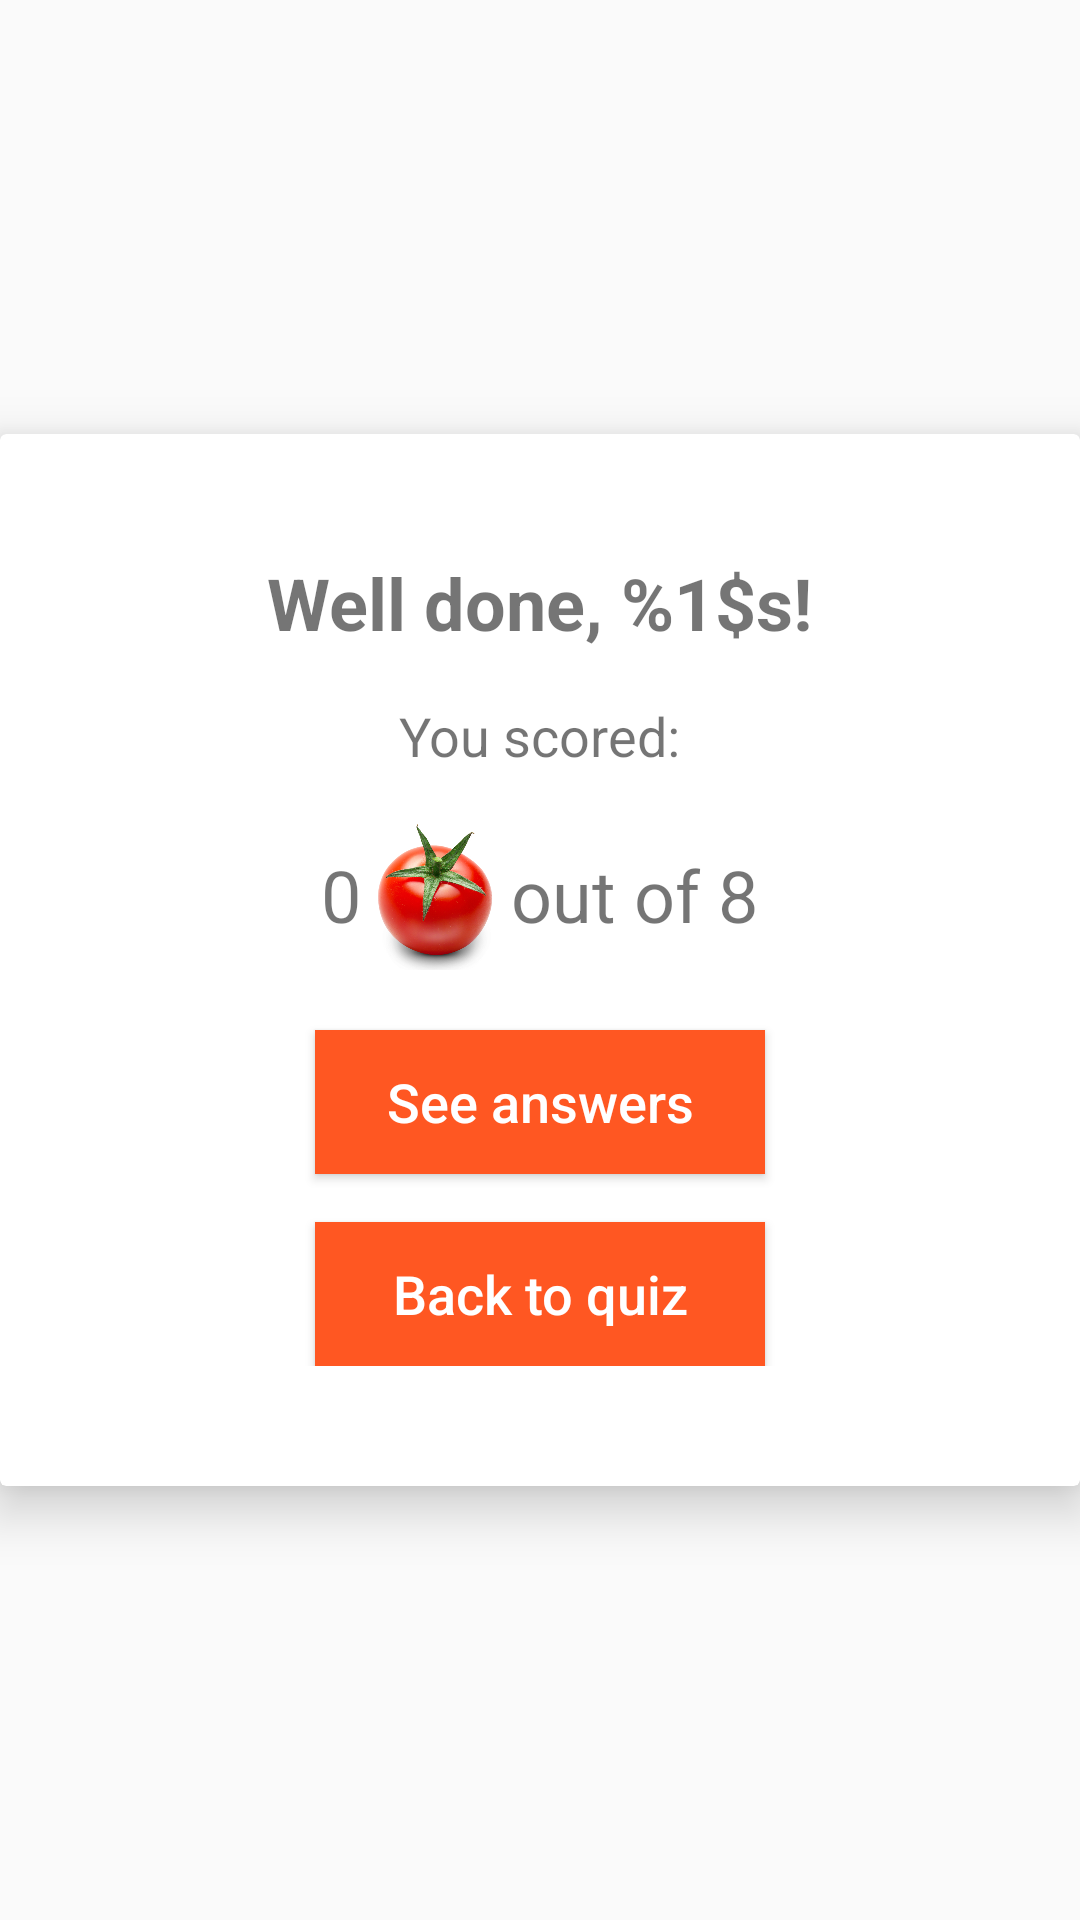

Icon bounding boxes for this 1080 x 1920 phone screenshot, format [x1, y1, x2, y2]:
picture of a tomato: [378, 824, 492, 967]
